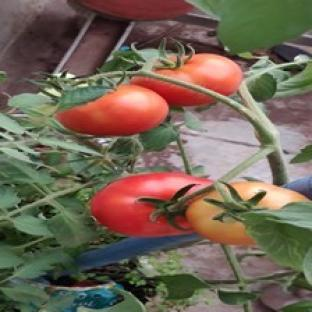Tomato: (91, 173, 211, 236), (56, 84, 168, 136), (154, 53, 243, 96), (187, 190, 254, 245)
